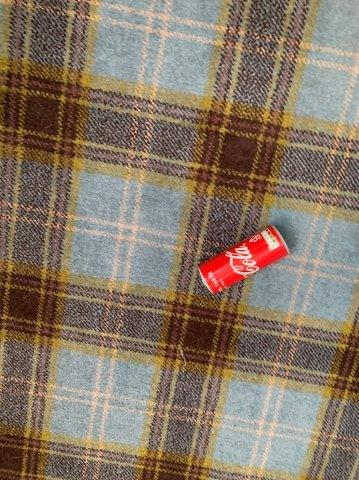kaleng: (198, 227, 288, 294)
